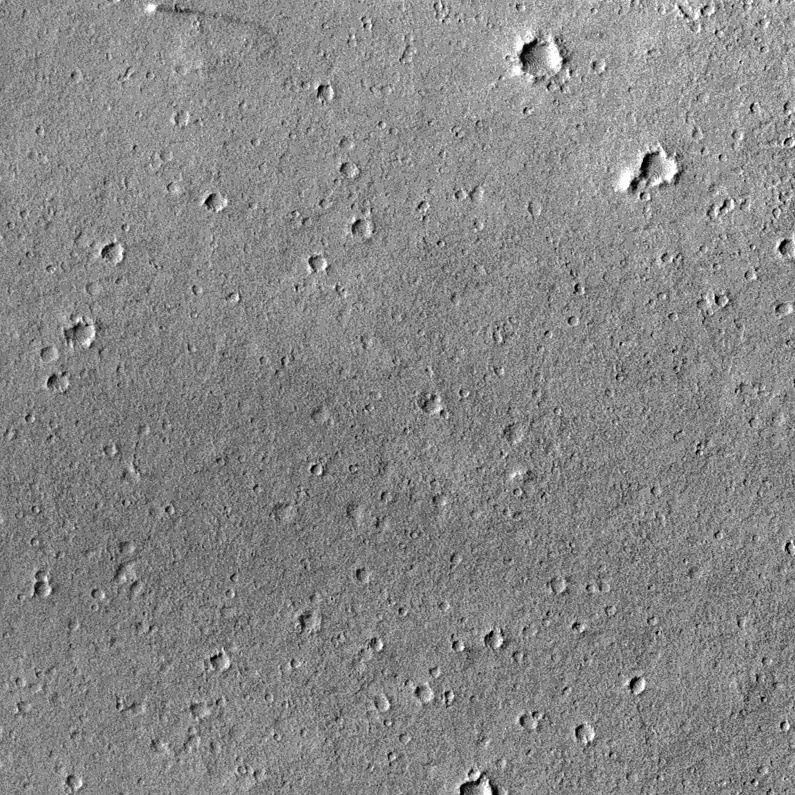dust_devil: (144, 3, 204, 17)
